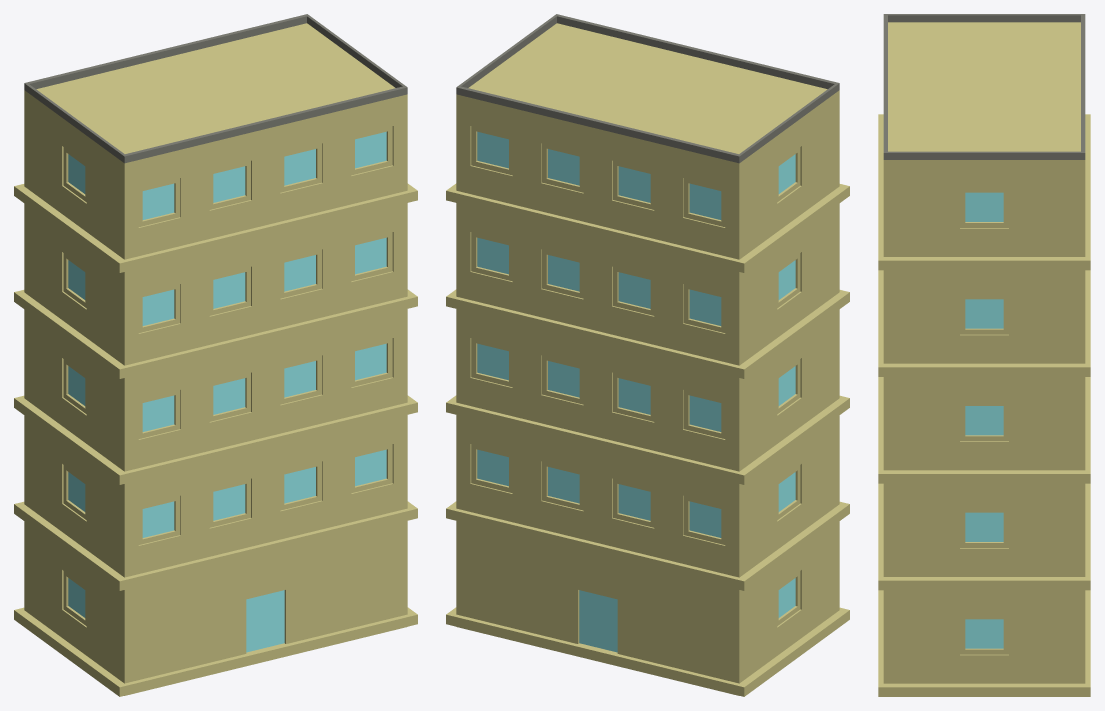
File: house1.fbx
3 views of the same model, side by side, from view 1: azimuth 30°, elevation 25°; view 2: azimuth 150°, elevation 25°; view 3: azimuth 270°, elevation 25° (orthographic).
Visible parts, largest first — view 1: 立方體; view 2: 立方體; view 3: 立方體.
Part boxes in pixels (x1,y1,x2,y2): 立方體: [14, 14, 417, 696]; 立方體: [446, 14, 849, 696]; 立方體: [878, 14, 1090, 696].
Bounding box in the file's own units: 648 × 1120 × 398.
1 material, 1 textured.
